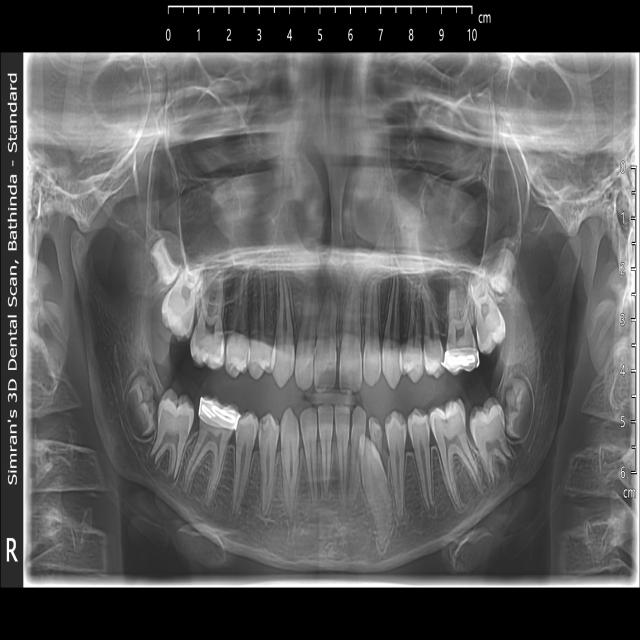Filling: (442, 350, 476, 373)
Mandibular Canal: (107, 334, 171, 489), (488, 353, 546, 502)
impacted tooth: (356, 436, 392, 558)
maxillary sinus: (145, 89, 287, 303), (389, 88, 522, 314)
